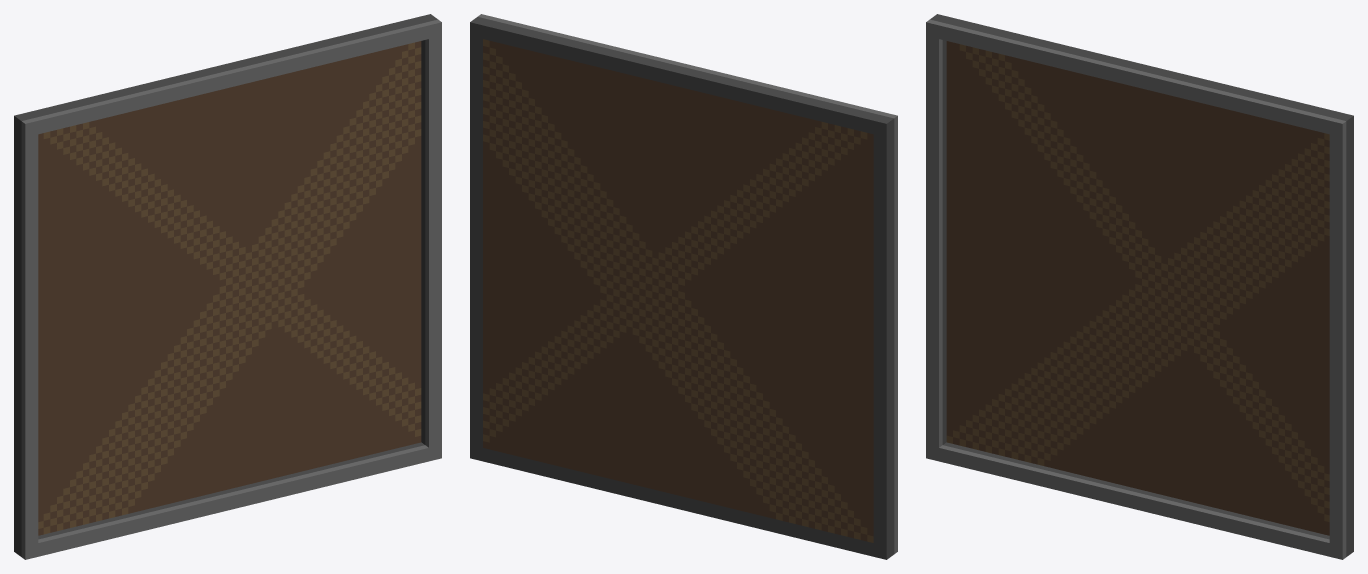
The model's file is WallObj.obj.
3 views of the same model, side by side, from view 1: azimuth 30°, elevation 25°; view 2: azimuth 150°, elevation 25°; view 3: azimuth 330°, elevation 25° (orthographic).
Visible parts, largest first — view 1: WallObj; view 2: WallObj; view 3: WallObj.
Boxes of the visible parts, <box> form: WallObj: <box>14,14,441,559</box>; WallObj: <box>470,14,897,559</box>; WallObj: <box>926,14,1353,559</box>.
Bounding box in the file's own units: 64 × 64 × 3.
1 material, 1 textured.
